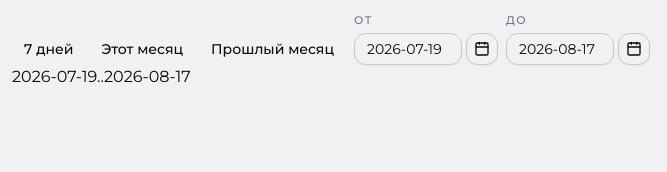
Test case: PeriodControl › fills both dates from a shortcut and stores them in the address
This screenshot has width=667, height=172.
Click the button "7 дней" at (49, 48), box x1=12 y1=32 x2=86 y2=64
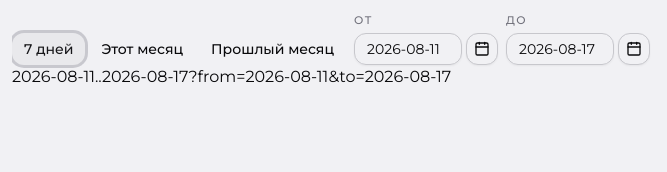
Result: the field labelled "От" holds "2026-08-11" at x1=354 y1=32 x2=462 y2=64
Result: the text "2026-08-11..2026-08-17" is shown at x1=12 y1=66 x2=188 y2=86
Result: the text with test id "search" shows "from=2026-08-11" at x1=188 y1=66 x2=451 y2=86
